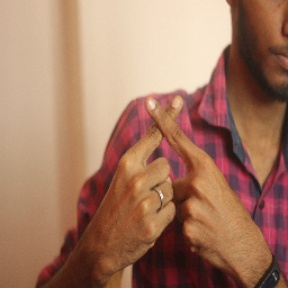X: (108, 87, 233, 210)
